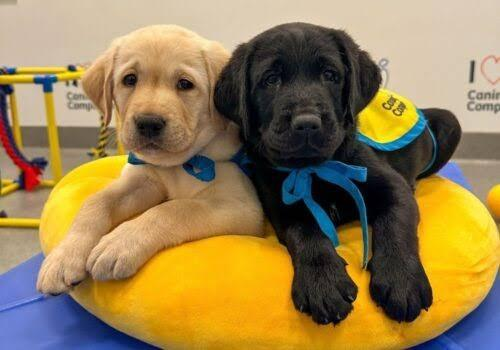puppy-dog: (219, 22, 464, 328), (30, 24, 274, 303)
